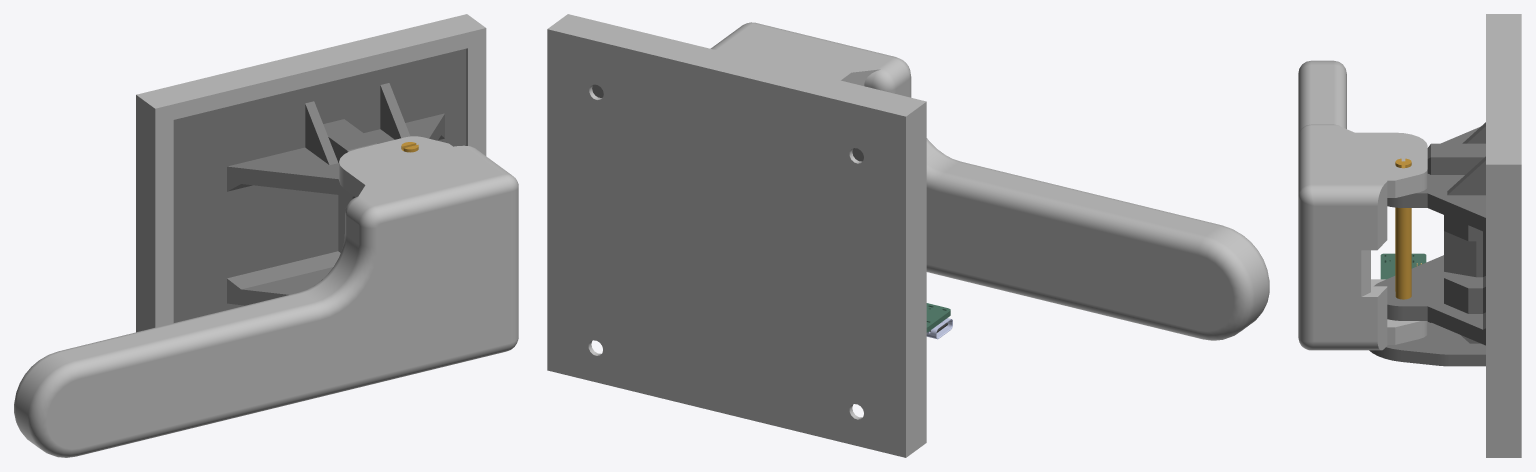
File: Cardoor_handle_demo_v_3.glb
3 views of the same model, side by side, from view 1: azimuth 30°, elevation 25°; view 2: azimuth 150°, elevation 25°; view 3: azimuth 270°, elevation 25° (orthographic). The views are drawn at different scales.
Parts seen in each view (by area): view 1: Solid1 (×3); view 2: Solid1 (×2); view 3: Solid1 (×5).
Boxes of the visible parts, x1,y1,x2,y2 form: Solid1 (×3): (14, 14, 518, 457); Solid1 (×2): (547, 14, 1269, 457); Solid1 (×5): (1298, 14, 1521, 457).
Bounding box in the file's own units: 0.1834 × 0.1 × 0.069.
